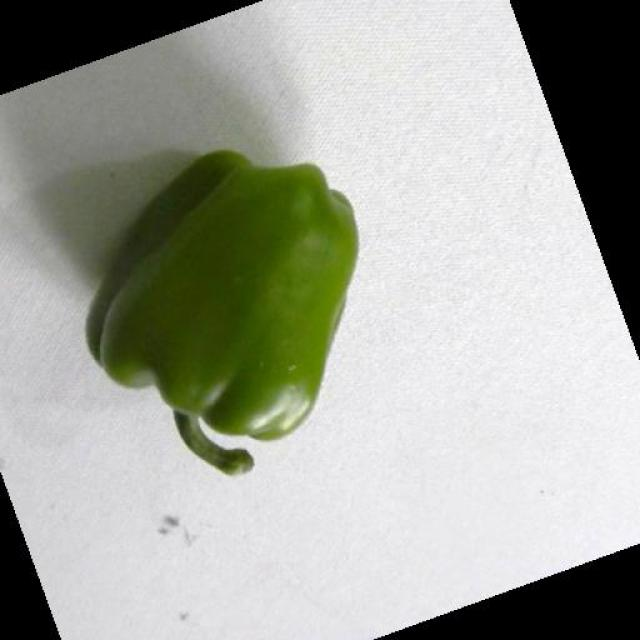Fresh_tomato: (96, 123, 345, 443)
